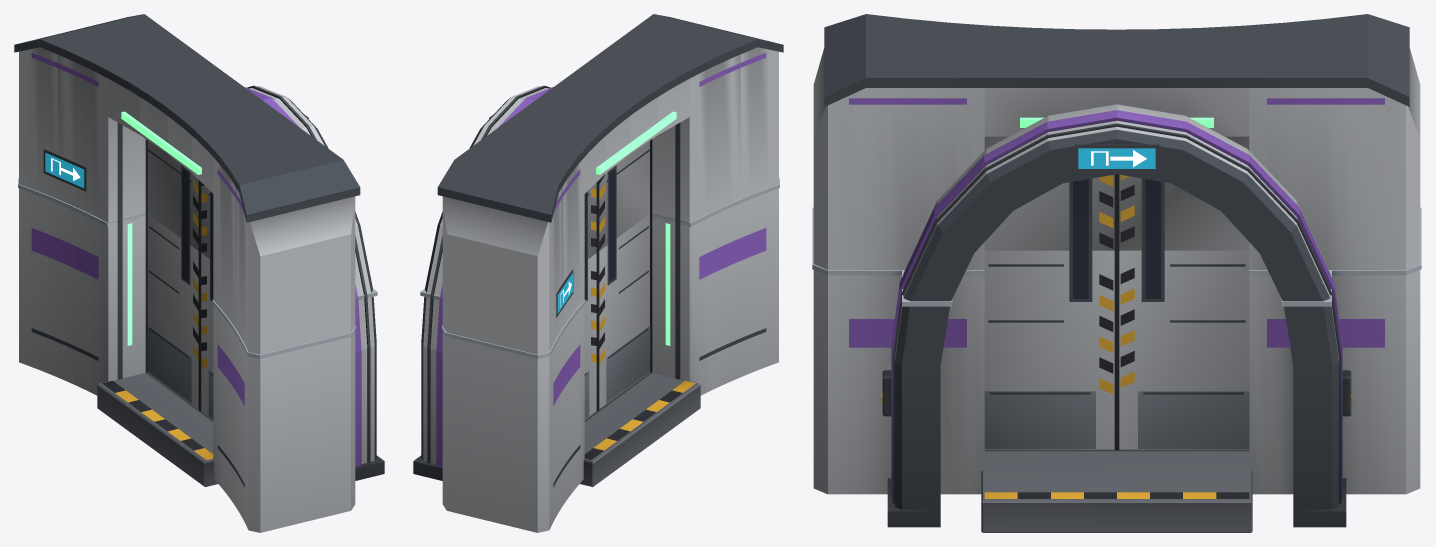
File: doorway_flat_r550.glb
3 renders of one model, left to right at view 1: azimuth 30°, elevation 25°; view 2: azimuth 150°, elevation 25°; view 3: azimuth 270°, elevation 25°, orthographic. The views are drawn at different scales.
Visible parts, largest first — view 1: FrameTop, Frame, DoorR, DoorRTop, DoorL, FrameCap, Sign, DoorLTop, Status, Lights; view 2: FrameTop, Frame, DoorL, DoorLTop, DoorR, FrameCap, DoorRTop, Status, Lights, Sign; view 3: FrameTop, Frame, DoorL, DoorR, DoorLTop, DoorRTop, Sign, FrameCap.
Boxes of the visible parts, x1=… form: FrameTop: x1=14, y1=14, x2=372, y2=354; Frame: x1=19, y1=188, x2=384, y2=532; DoorR: x1=147, y1=214, x2=199, y2=410; DoorRTop: x1=147, y1=141, x2=199, y2=252; DoorL: x1=199, y1=253, x2=213, y2=419; FrameCap: x1=18, y1=178, x2=377, y2=358; Sign: x1=43, y1=114, x2=308, y2=191; DoorLTop: x1=199, y1=181, x2=213, y2=261; Status: x1=121, y1=111, x2=201, y2=174; Lights: x1=127, y1=223, x2=132, y2=345; FrameTop: x1=425, y1=14, x2=783, y2=354; Frame: x1=413, y1=188, x2=778, y2=532; DoorL: x1=598, y1=214, x2=650, y2=410; DoorLTop: x1=598, y1=141, x2=650, y2=252; DoorR: x1=584, y1=253, x2=598, y2=419; FrameCap: x1=420, y1=178, x2=779, y2=358; DoorRTop: x1=584, y1=181, x2=598, y2=261; Status: x1=596, y1=111, x2=676, y2=174; Lights: x1=665, y1=223, x2=670, y2=345; Sign: x1=489, y1=114, x2=573, y2=317; FrameTop: x1=813, y1=14, x2=1420, y2=301; Frame: x1=813, y1=270, x2=1420, y2=532; DoorL: x1=984, y1=250, x2=1116, y2=450; DoorR: x1=1117, y1=250, x2=1249, y2=450; DoorLTop: x1=984, y1=136, x2=1116, y2=250; DoorRTop: x1=1117, y1=136, x2=1249, y2=250; Sign: x1=1074, y1=144, x2=1159, y2=171; FrameCap: x1=812, y1=207, x2=1421, y2=306.
Size of the model in its own units: 1.35 by 2.67 by 3.46.
